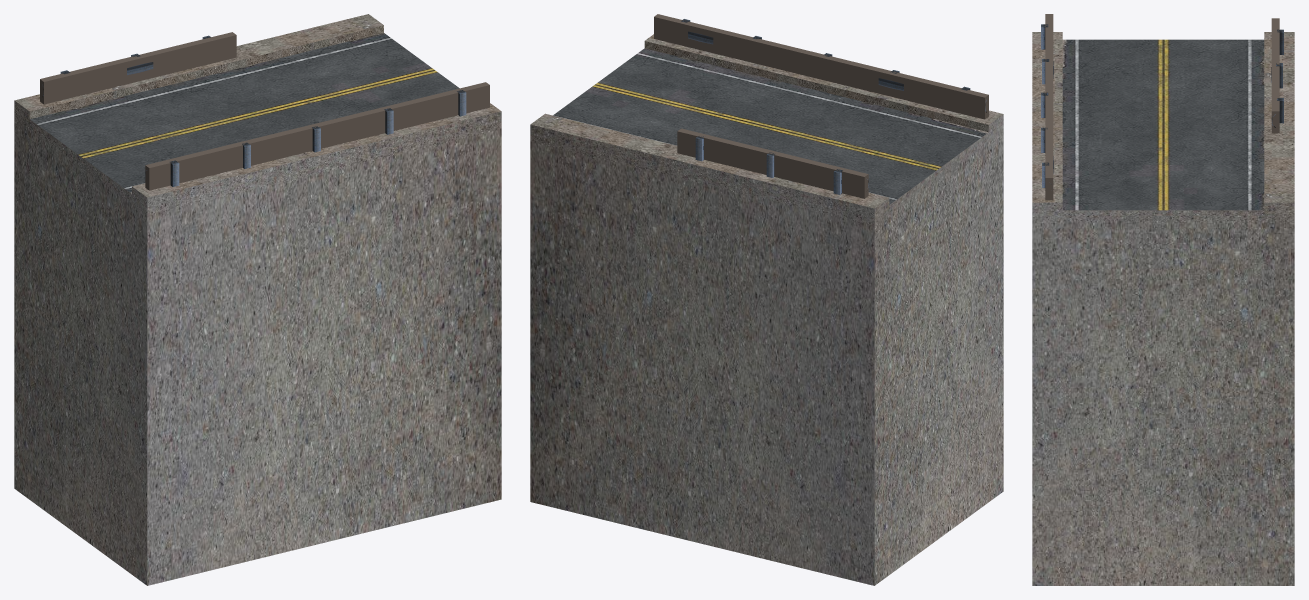
File: straight-short.fbx
The picture shows the model from 3 angles, left to right: view 1: azimuth 30°, elevation 25°; view 2: azimuth 150°, elevation 25°; view 3: azimuth 270°, elevation 25°; orthographic projection. The views are drawn at different scales.
Visible parts, largest first — view 1: Plane.011, Plane.032; view 2: Plane.011, Plane.032; view 3: Plane.011, Plane.032.
Part boxes in pixels (x1,y1,x2,y2): Plane.011: (14, 14, 501, 585); Plane.032: (40, 32, 489, 190); Plane.011: (530, 19, 1003, 585); Plane.032: (654, 14, 988, 198); Plane.011: (1032, 24, 1294, 585); Plane.032: (1045, 14, 1279, 200).
Bounding box in the file's own units: 2001 × 2218 × 1300.
